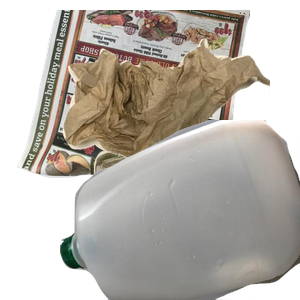glass: (91, 142, 260, 300)
paper: (14, 10, 254, 190)
plastic: (60, 120, 300, 300)
trash: (60, 36, 300, 198)
